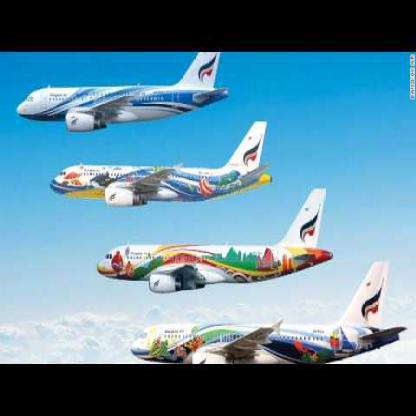CIV_Plane: (127, 254, 405, 361), (84, 184, 334, 295), (40, 118, 278, 210), (9, 51, 229, 134)
